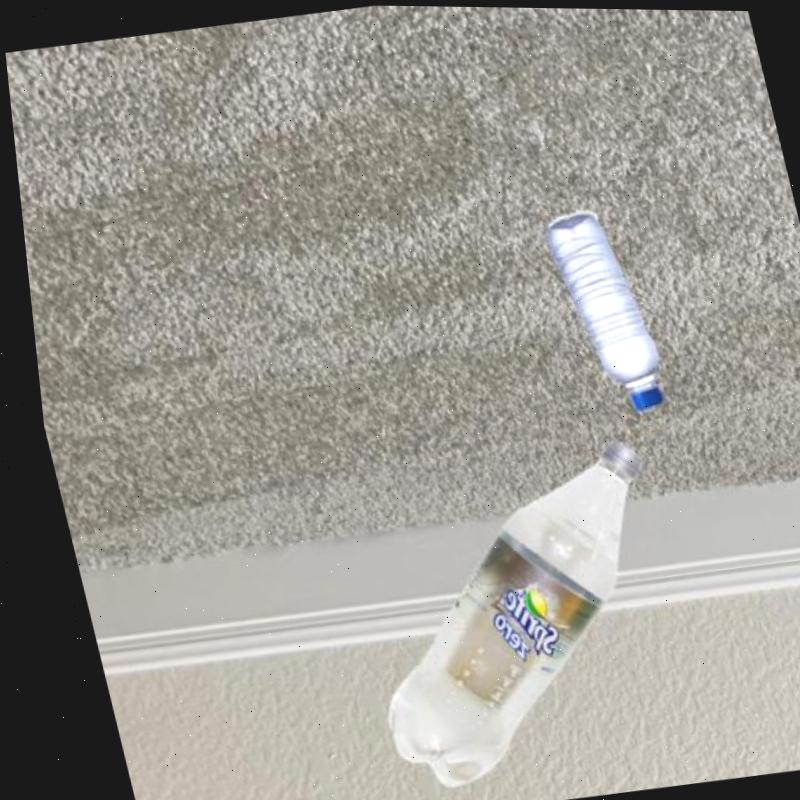botella: (313, 433, 701, 796), (532, 201, 665, 417)
